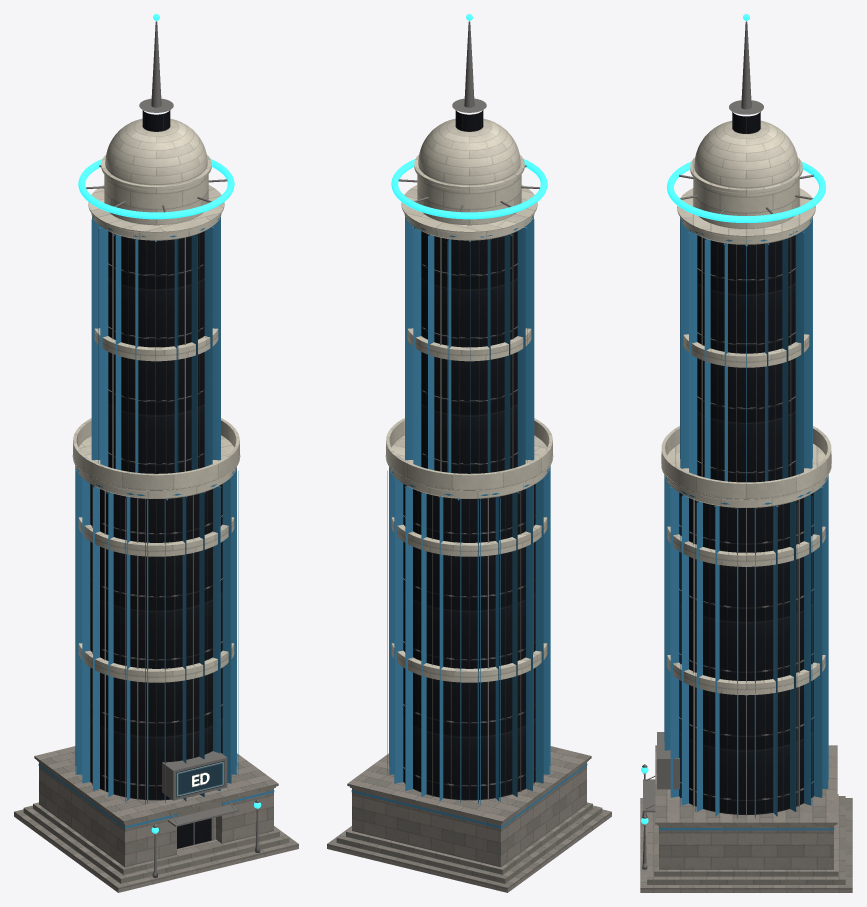
File: education-dao.glb
3 views of the same model, side by side, from view 1: azimuth 30°, elevation 25°; view 2: azimuth 150°, elevation 25°; view 3: azimuth 270°, elevation 25° (orthographic).
Parts seen in each view (by area): view 1: Landmark · Education DAO; view 2: Landmark · Education DAO; view 3: Landmark · Education DAO.
Part boxes in pixels (x1,y1,x2,y2): Landmark · Education DAO: (14, 14, 298, 892); Landmark · Education DAO: (327, 14, 611, 892); Landmark · Education DAO: (640, 14, 852, 892).
Size of the model in its own units: 12 by 52 by 12.
Materials: 7 (4 with a texture image).
